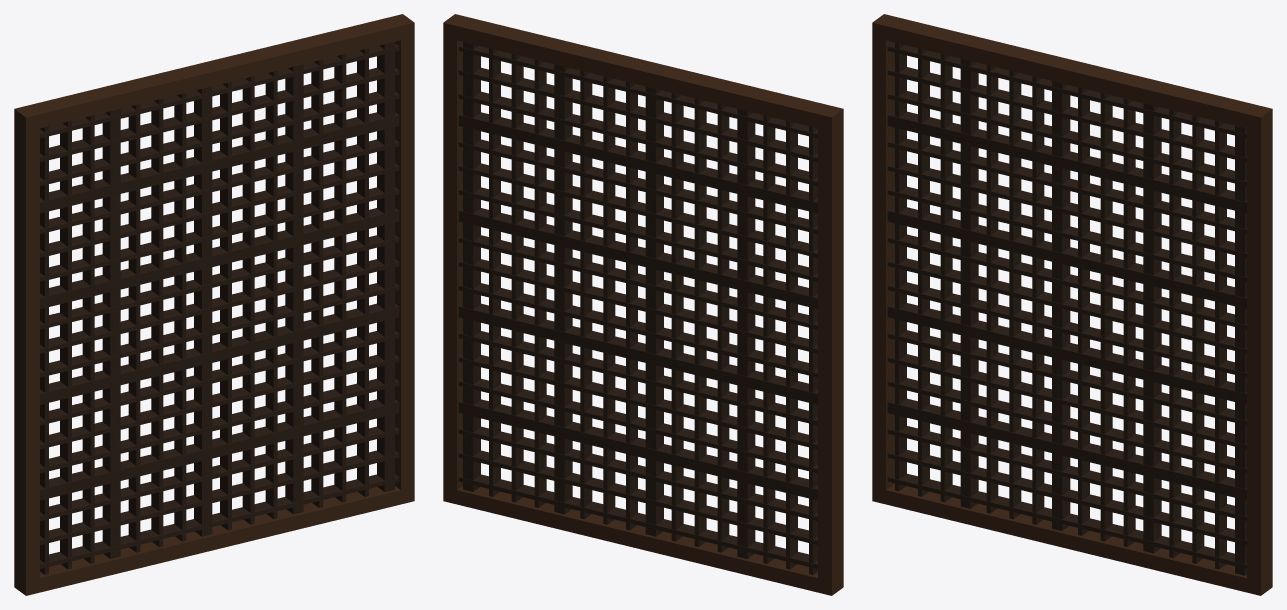
File: lattice_screen.glb
3 views of the same model, side by side, from view 1: azimuth 30°, elevation 25°; view 2: azimuth 150°, elevation 25°; view 3: azimuth 330°, elevation 25° (orthographic).
Parts seen in each view (by area): view 1: lattice_screen; view 2: lattice_screen; view 3: lattice_screen.
Part boxes in pixels (x1=…): lattice_screen: x1=14, y1=14, x2=414, y2=595; lattice_screen: x1=443, y1=14, x2=843, y2=595; lattice_screen: x1=872, y1=14, x2=1272, y2=595.
Size of the model in its own units: 3.4 by 4 by 0.18.
2 materials, 1 textured.
